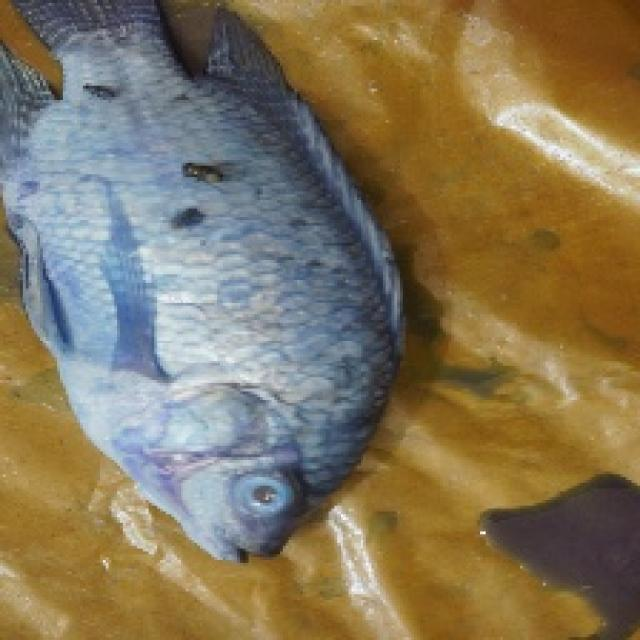Non-Fresh: (22, 109, 434, 597), (223, 455, 314, 533)
